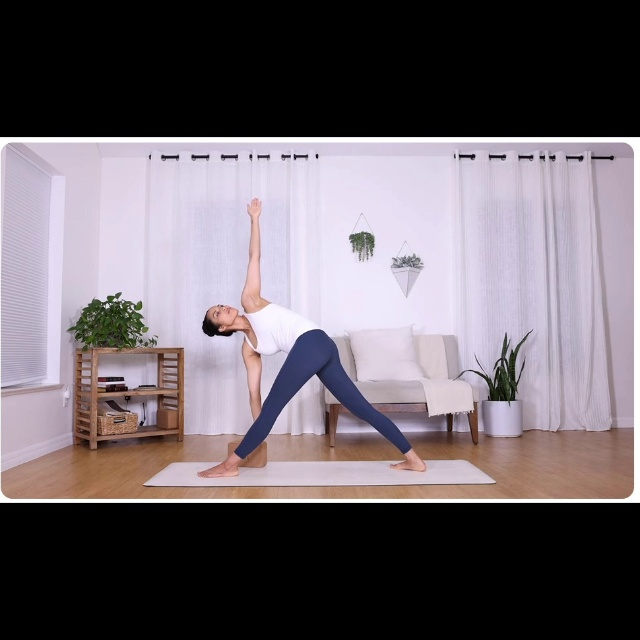Triangle_Pose: (176, 193, 468, 482)
